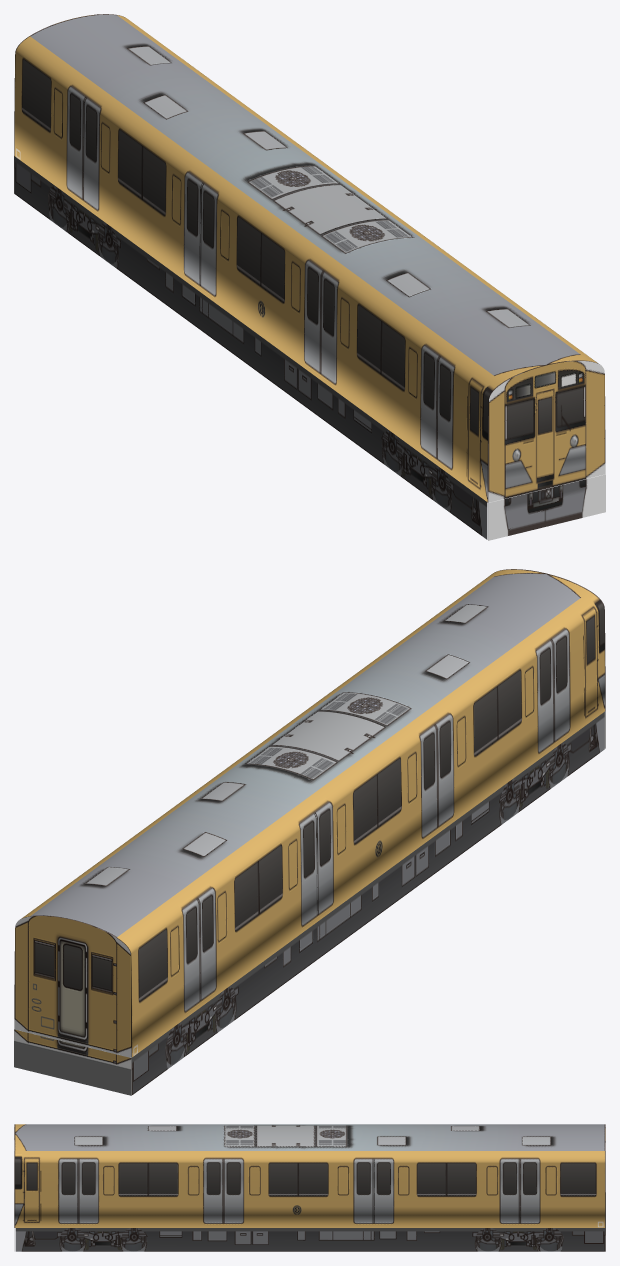
File: car1.glb
3 renders of one model, top to bottom at view 1: azimuth 30°, elevation 25°; view 2: azimuth 150°, elevation 25°; view 3: azimuth 270°, elevation 25°, orthographic. The views are drawn at different scales.
Parts seen in each view (by area): view 1: seibu-9000-car1; view 2: seibu-9000-car1; view 3: seibu-9000-car1.
Part boxes in pixels (<box>): seibu-9000-car1: <box>14,14,605,540</box>; seibu-9000-car1: <box>14,569,605,1095</box>; seibu-9000-car1: <box>14,1124,605,1251</box>.
Bounding box in the file's own units: 2.8 × 3.66 × 19.59.
9 materials, 8 textured.
